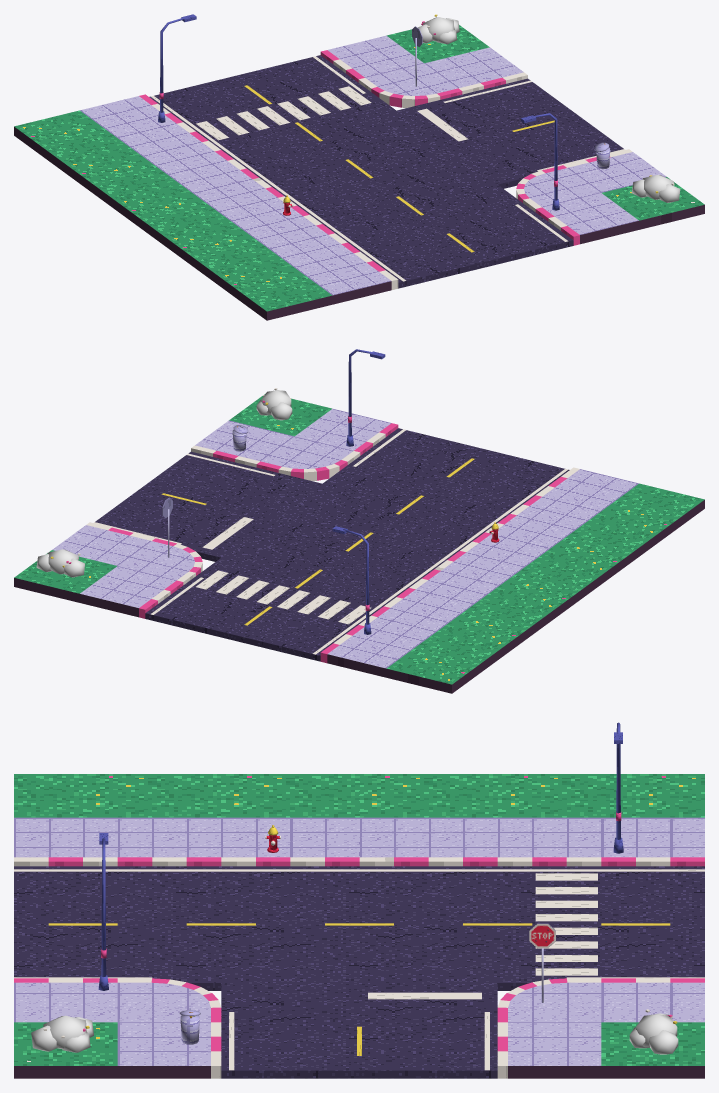
File: T Junction.fbx
3 renders of one model, top to bottom at view 1: azimuth 30°, elevation 25°; view 2: azimuth 150°, elevation 25°; view 3: azimuth 270°, elevation 25°, orthographic. The views are drawn at different scales.
Visible parts, largest first — view 1: T Junction ground, T Junction paint, T Junction bush 1 clump 0; view 2: T Junction ground, T Junction paint; view 3: T Junction ground, T Junction paint, T Junction bush 1 clump 0, T Junction bush 0 clump 0, T Junction lamp 1 pole, T Junction stop sign plate, T Junction bush 0 clump 1.
Part boxes in pixels (x1,y1,x2,y2): T Junction ground: (14,25,704,320); T Junction paint: (150,56,625,281); T Junction bush 1 clump 0: (642,175,673,199); T Junction ground: (14,394,704,693); T Junction paint: (94,429,568,654); T Junction ground: (14,774,704,1078); T Junction paint: (14,869,704,1070); T Junction bush 1 clump 0: (43,1015,87,1048); T Junction bush 0 clump 0: (636,1014,677,1047); T Junction lamp 1 pole: (101,838,106,976); T Junction stop sign plate: (529,923,555,948); T Junction bush 0 clump 1: (649,1030,678,1054).
Size of the model in its own units: 20 by 4.69 by 20.
Materials: 28 (23 with a texture image).
